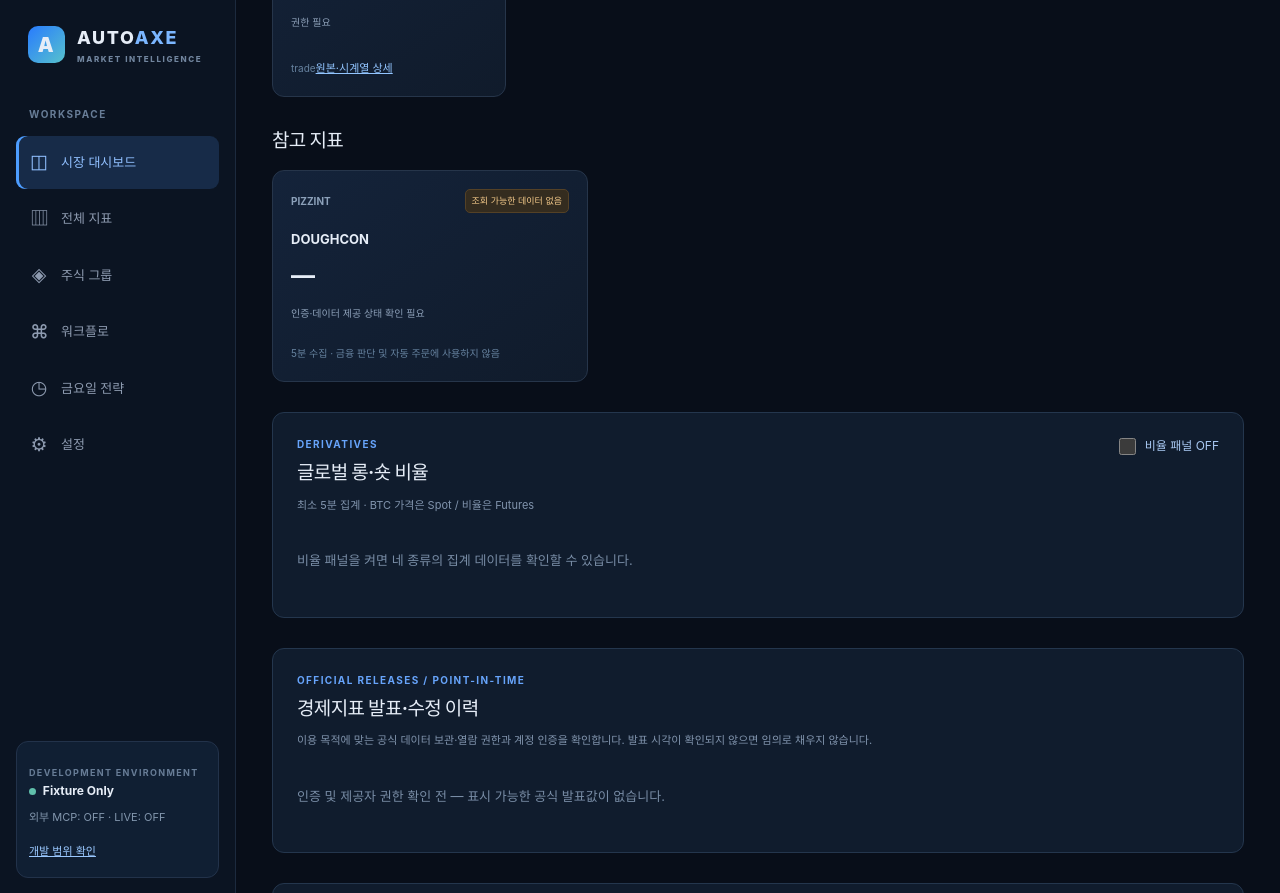
Test case: Phase 2 home marks synthetic and missing sources accurately
(page scrolled)
Click the checkbox at [1127, 446], box [1119,438,1136,455]
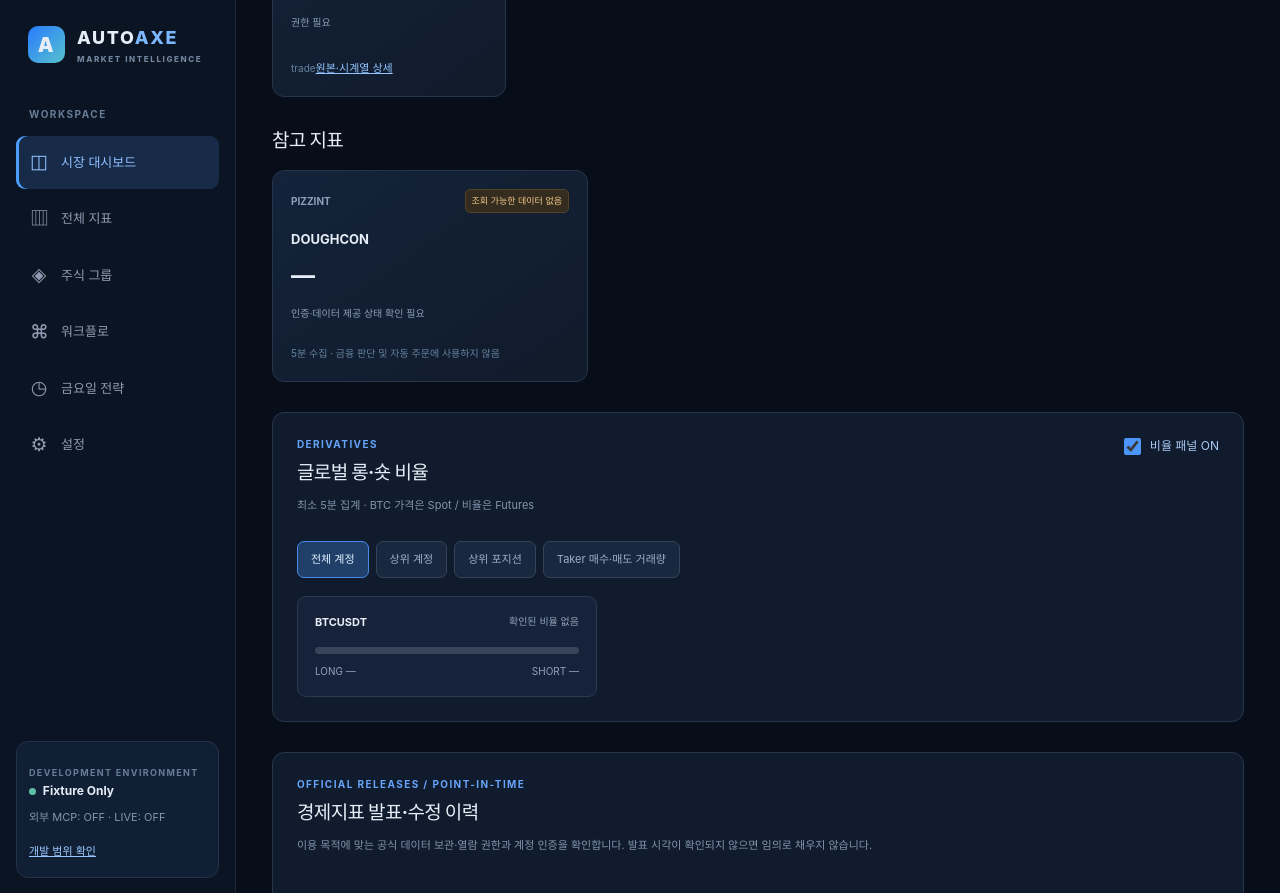
Result: the text "확인된 비율 없음" is shown at [509,614,579,629]
Click the button "Taker 매수·매도 거래량" at [611, 559], box [543,541,680,578]
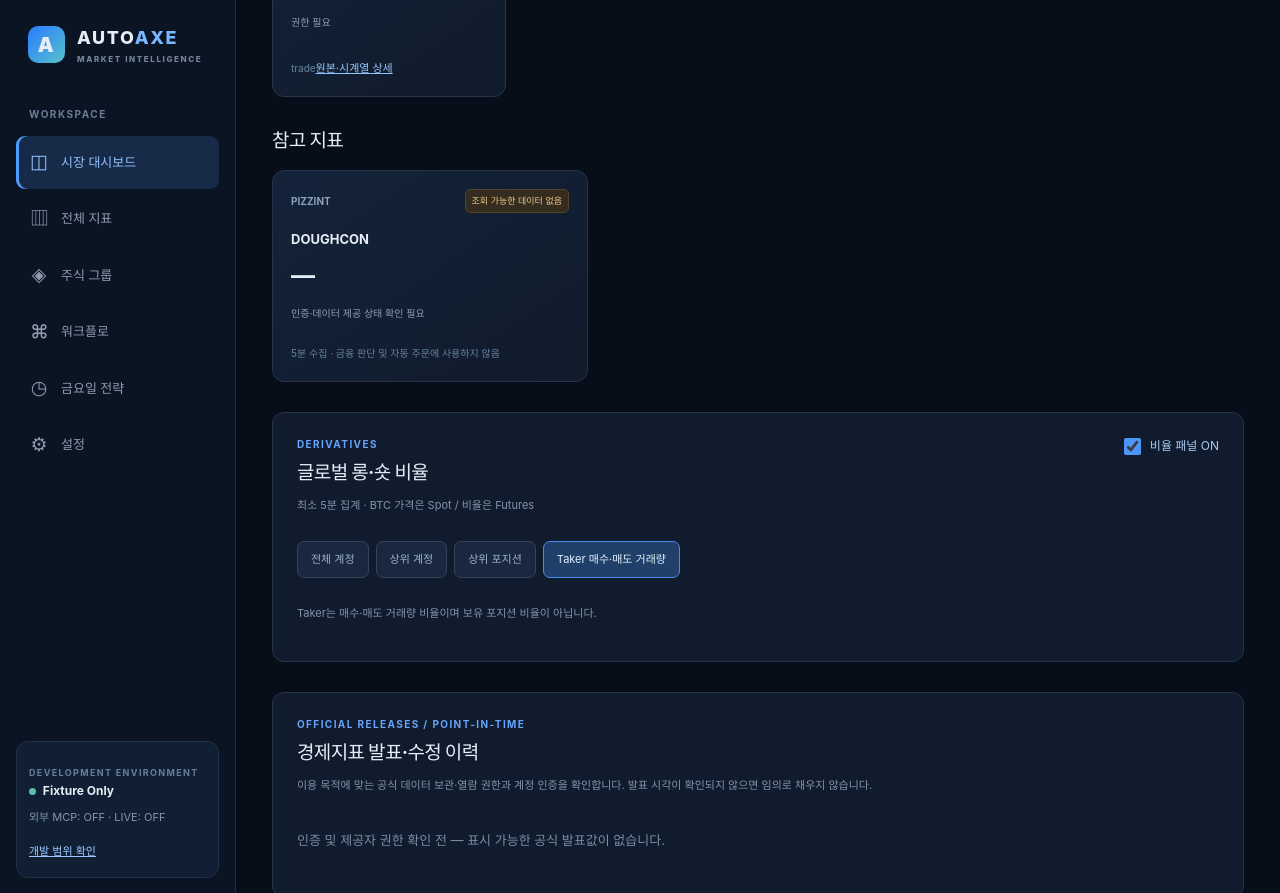
Result: the text "Taker는 매수·매도 거래량 비율이며 보유 포지션 비율이 아닙니다." is shown at [297,606,597,620]
